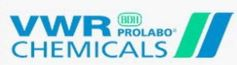VWR: (9, 10, 235, 59)
